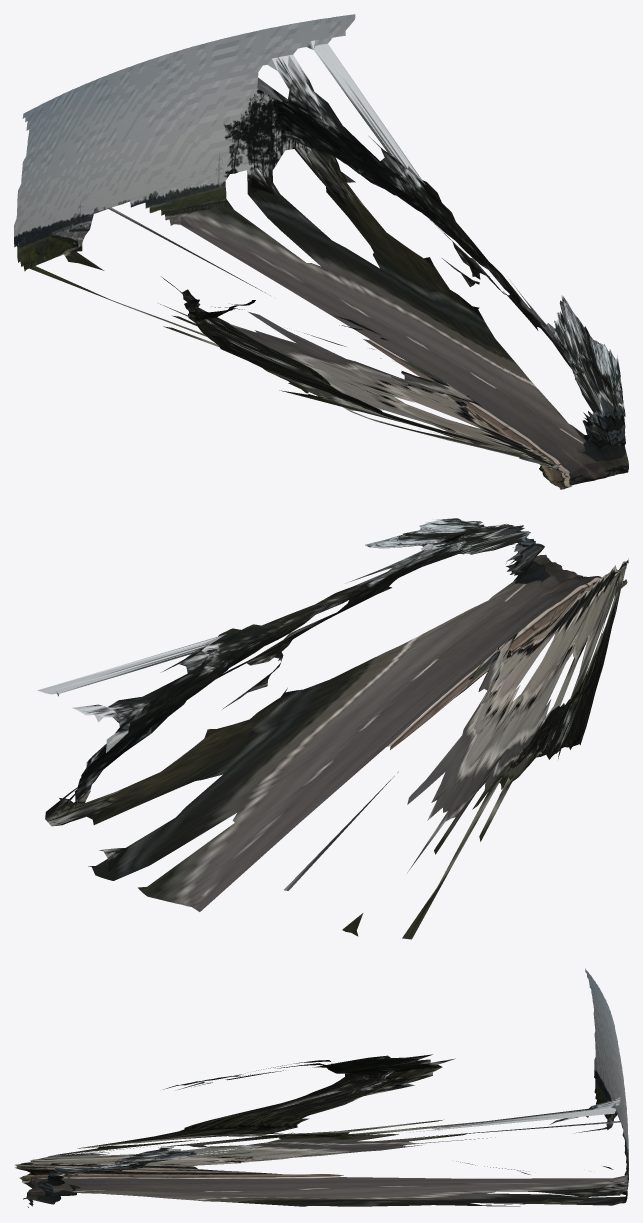
The picture shows the model from 3 angles, top to bottom: view 1: azimuth 30°, elevation 25°; view 2: azimuth 150°, elevation 25°; view 3: azimuth 270°, elevation 25°; orthographic projection. The views are drawn at different scales.
Visible parts, largest first — view 1: defaultobject; view 2: defaultobject; view 3: defaultobject.
Part boxes in pixels (left/top/right/bottom): defaultobject: left=14, top=14, right=628, bottom=489; defaultobject: left=37, top=518, right=628, bottom=939; defaultobject: left=14, top=968, right=628, bottom=1207.
Bounding box in the file's own units: 23.95 × 11.78 × 45.1.
1 material, 1 textured.
